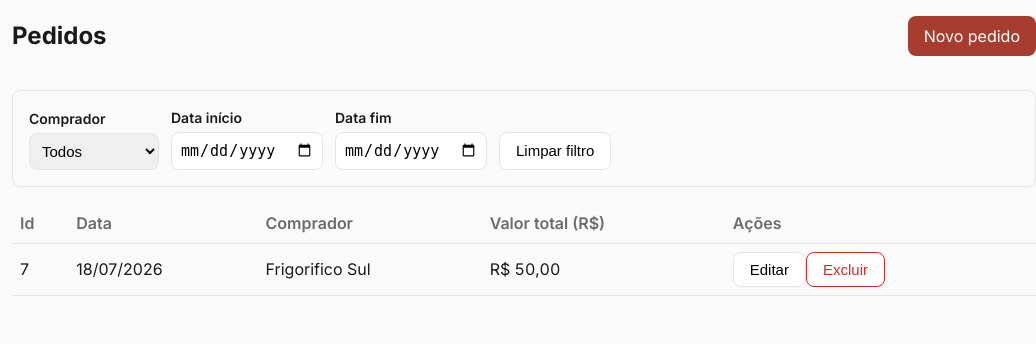
Scenario: PedidosListPage › exibe mensagem inline quando data inicio é posterior a data fim, sem travar a tela
Expected: the cell "Frigorifico Sul" is shown, top-left (258, 243), bottom-right (482, 295)
Type "2026-07-20" into the date field labelled "Data início". click: (247, 151)
box: top-left (171, 132), bottom-right (323, 170)
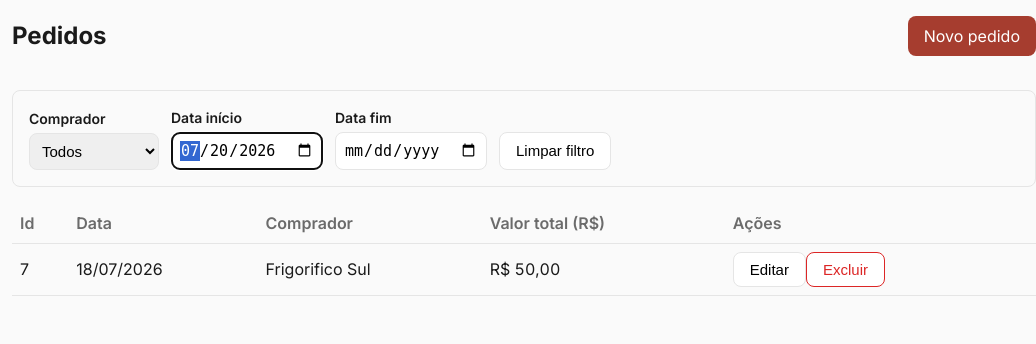
Type "2026-07-10" into the date field labelled "Data fim". click: (411, 151)
box: top-left (335, 132), bottom-right (487, 170)
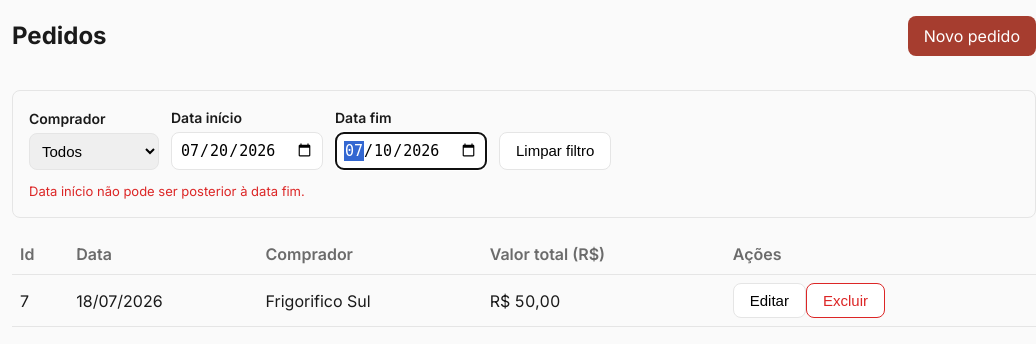
Expected: the text "Data início não pode ser posterior à data fim." is shown, top-left (29, 183), bottom-right (305, 199)
